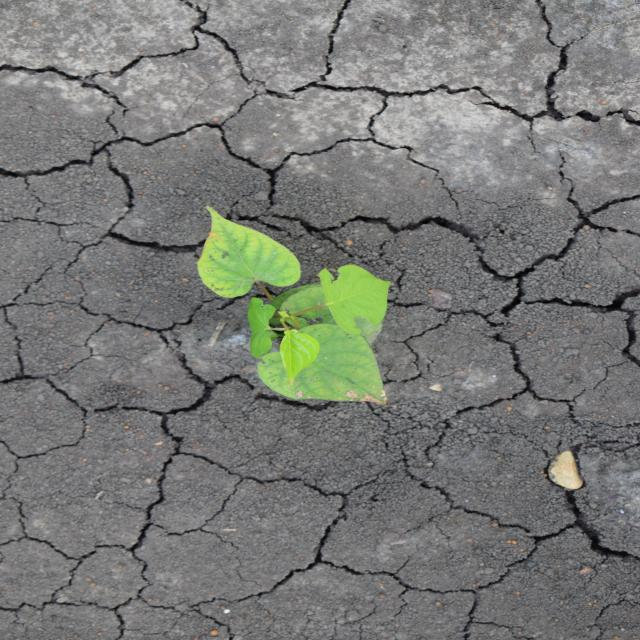MorningGlory: (195, 204, 395, 407)
